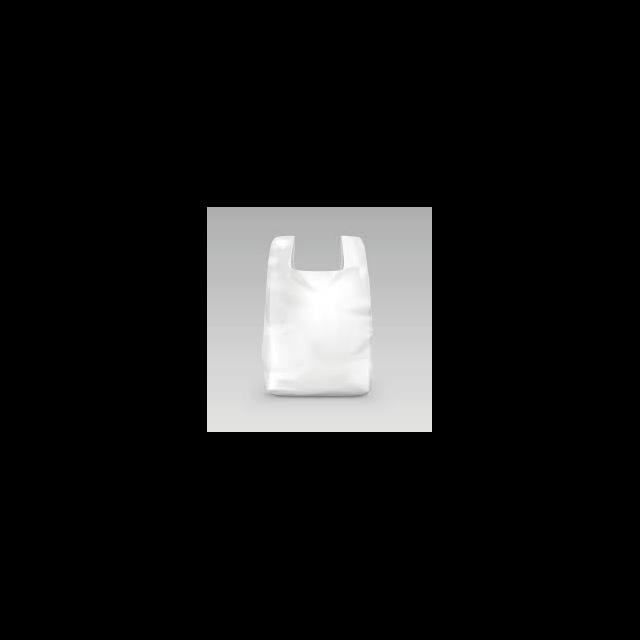plastic: (262, 234, 372, 396)
